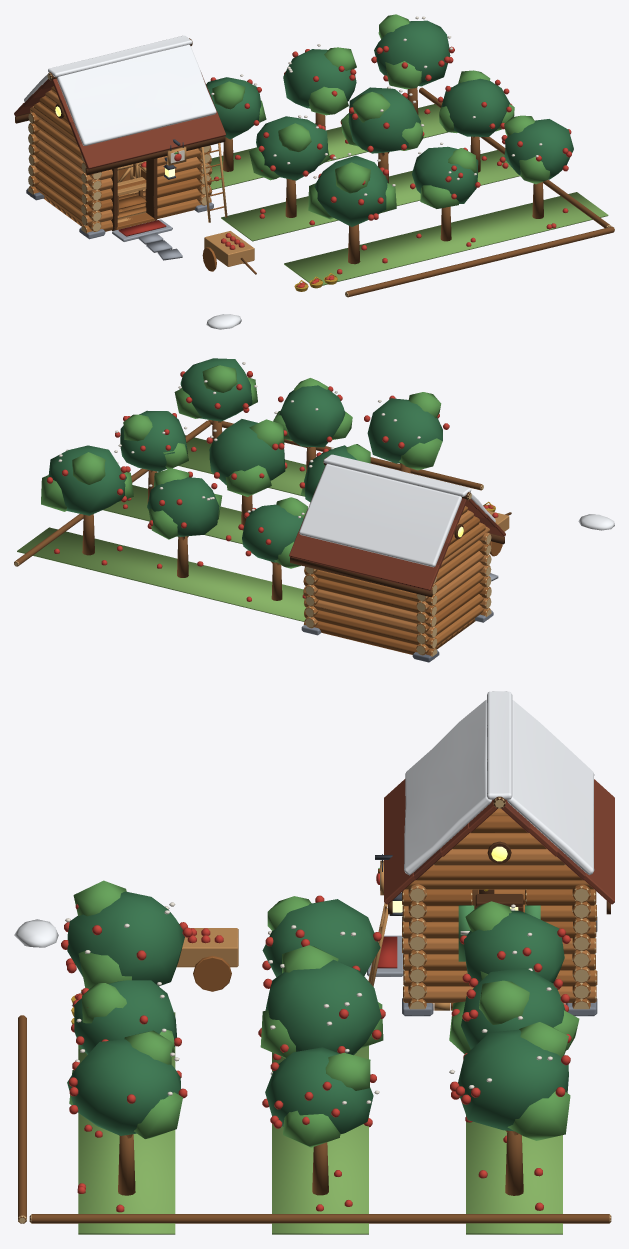
Rendered from orchard.glb.
3 renders of one model, top to bottom at view 1: azimuth 30°, elevation 25°; view 2: azimuth 150°, elevation 25°; view 3: azimuth 270°, elevation 25°, orthographic. The views are drawn at different scales.
Visible parts, largest first — view 1: roof, floor, walls, exterior, tree_7, tree_3, tree_4, tree_5, tree_9, tree_2, tree_6, tree_8 (+2 smaller); view 2: roof, walls, floor, tree_3, tree_5, tree_7, tree_2, tree_9, tree_8, tree_6, tree_1, exterior (+1 smaller); view 3: roof, floor, walls, exterior, tree_3, tree_9, tree_5, tree_7, tree_6, tree_2, tree_4, tree_1 (+1 smaller).
Boxes of the visible parts, x1,y1,x2,y2 form: roof: (14, 35, 226, 175); floor: (43, 104, 608, 285); walls: (26, 106, 213, 239); exterior: (138, 87, 614, 329); tree_7: (308, 153, 396, 274); tree_3: (371, 14, 454, 114); tree_4: (249, 115, 329, 225); tree_5: (340, 86, 424, 183); tree_9: (499, 115, 573, 229); tree_2: (283, 44, 356, 159); tree_6: (438, 70, 514, 172); tree_8: (410, 142, 480, 246); roof: (289, 454, 505, 596); walls: (301, 526, 493, 662); floor: (17, 435, 475, 649); tree_3: (41, 445, 133, 565); tree_5: (206, 419, 287, 541); tree_7: (364, 392, 449, 473); tree_2: (147, 468, 222, 577); tree_9: (174, 358, 257, 451); tree_8: (273, 378, 352, 472); tree_6: (115, 410, 188, 508); tree_1: (238, 497, 307, 601); exterior: (14, 419, 614, 581); roof: (384, 691, 614, 914); floor: (78, 935, 565, 1234); walls: (375, 808, 597, 1016); exterior: (14, 903, 611, 1223); tree_3: (449, 1022, 570, 1210); tree_9: (67, 1030, 187, 1212); tree_5: (258, 945, 385, 1127); tree_7: (61, 880, 192, 989); tree_6: (262, 1046, 379, 1211); tree_2: (449, 968, 579, 1142); tree_4: (262, 895, 381, 1060); tree_1: (459, 901, 570, 989).
Size of the model in its own units: 10.1 by 3.4 by 8.06.
